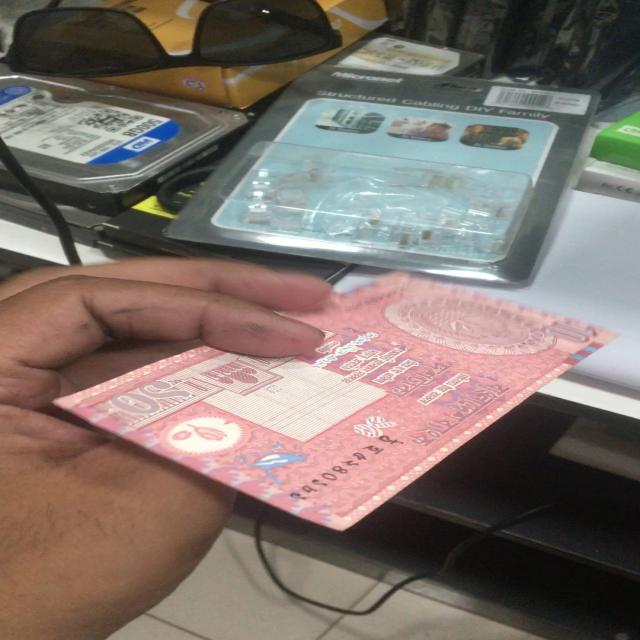Taka: (104, 278, 603, 502)
